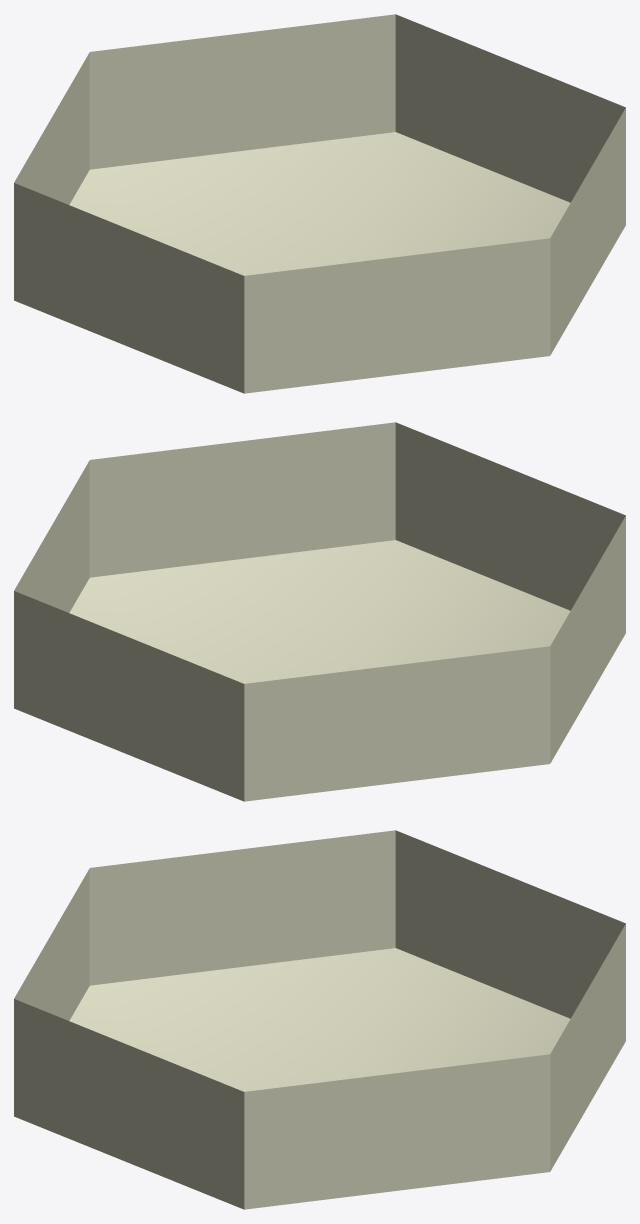
Rendered from original-98.obj.
The picture shows the model from 3 angles, top to bottom: view 1: azimuth 30°, elevation 25°; view 2: azimuth 150°, elevation 25°; view 3: azimuth 270°, elevation 25°; orthographic projection.
Visible parts, largest first — view 1: #ID461; view 2: #ID461; view 3: #ID461.
Boxes of the visible parts, <box> form: #ID461: <box>14,14,625,393</box>; #ID461: <box>14,422,625,801</box>; #ID461: <box>14,830,625,1209</box>.
Bounding box in the file's own units: 0.0317 × 0.0118 × 0.0314.
